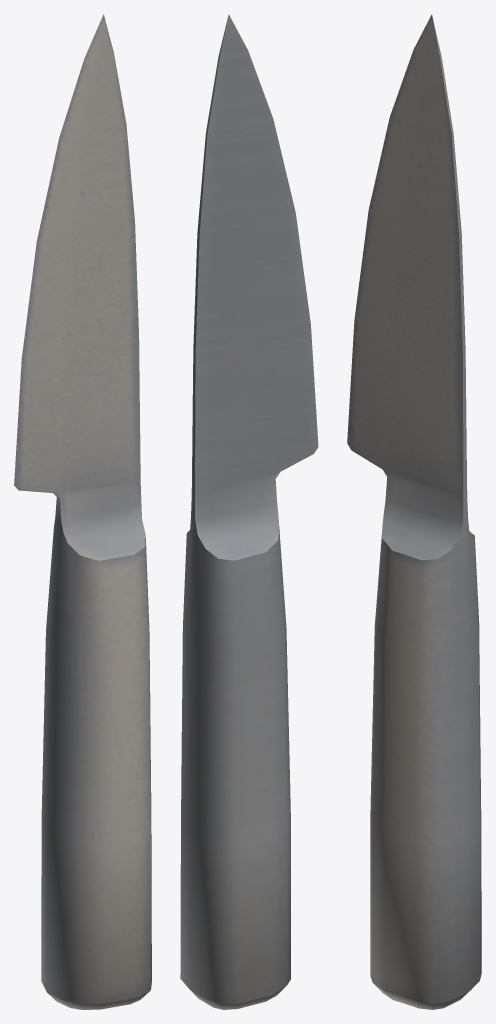
Rendered from SM_Knife_01.glb.
The picture shows the model from 3 angles, left to right: view 1: azimuth 30°, elevation 25°; view 2: azimuth 210°, elevation 25°; view 3: azimuth 330°, elevation 25°; orthographic projection.
Parts seen in each view (by area): view 1: SM_Knife_01; view 2: SM_Knife_01; view 3: SM_Knife_01.
Boxes of the visible parts, x1=… form: SM_Knife_01: x1=14, y1=14, x2=151, y2=1009; SM_Knife_01: x1=180, y1=14, x2=318, y2=1009; SM_Knife_01: x1=347, y1=14, x2=481, y2=1009.
Size of the model in its own units: 0.034 by 0.2559 by 0.0232.
1 material, 1 textured.
